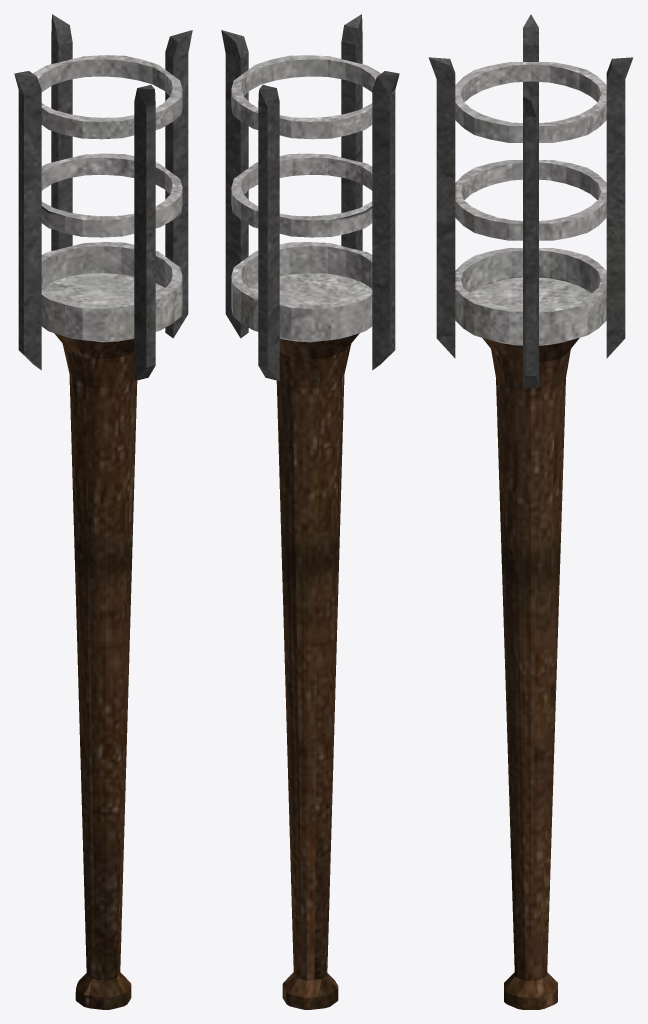
File: Torch.obj
3 renders of one model, left to right at view 1: azimuth 30°, elevation 25°; view 2: azimuth 150°, elevation 25°; view 3: azimuth 270°, elevation 25°, orthographic.
Parts seen in each view (by area): view 1: Torch_Cone; view 2: Torch_Cone; view 3: Torch_Cone.
Part boxes in pixels (x1,y1,x2,y2): Torch_Cone: [14, 14, 192, 1009]; Torch_Cone: [221, 14, 399, 1009]; Torch_Cone: [428, 14, 633, 1009].
Bounding box in the file's own units: 0.76 × 3.85 × 0.76.
Materials: 1 (1 with a texture image).
